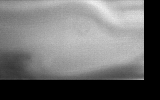cell: (70, 19, 93, 40), (76, 20, 96, 37)
